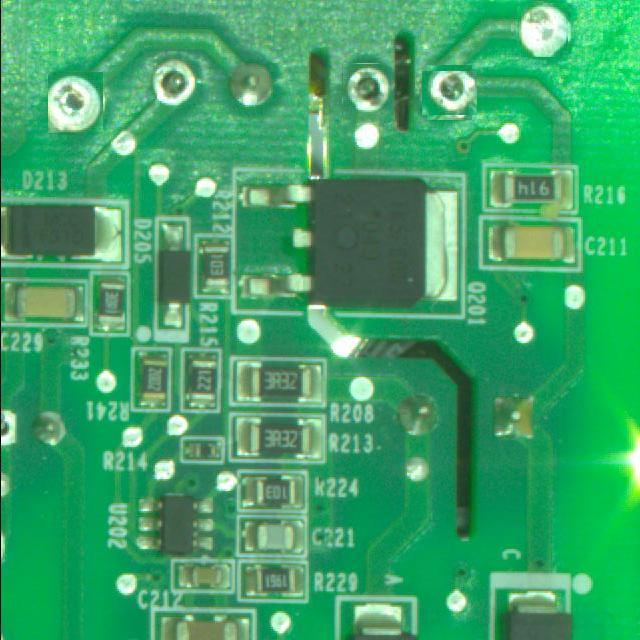lack_of_part: (48, 72, 103, 133), (342, 63, 393, 123), (518, 5, 570, 56), (150, 60, 197, 115), (424, 68, 474, 118)
